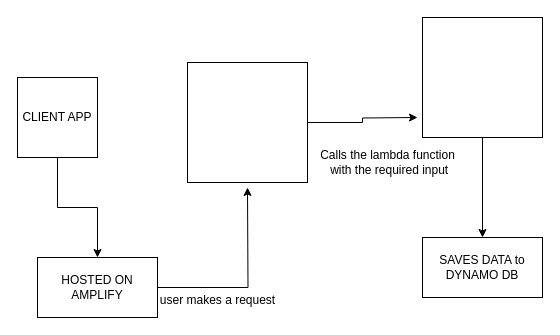
Image size: 560x335. Some labels were removed from this diagram. The centre of each missing label's shape, as x and y in pixels:
API GATEWAY: point 247,122
AWS Lambda: point 482,77
